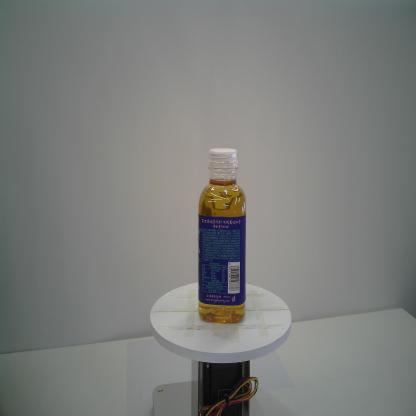Drink: (197, 147, 248, 324)
